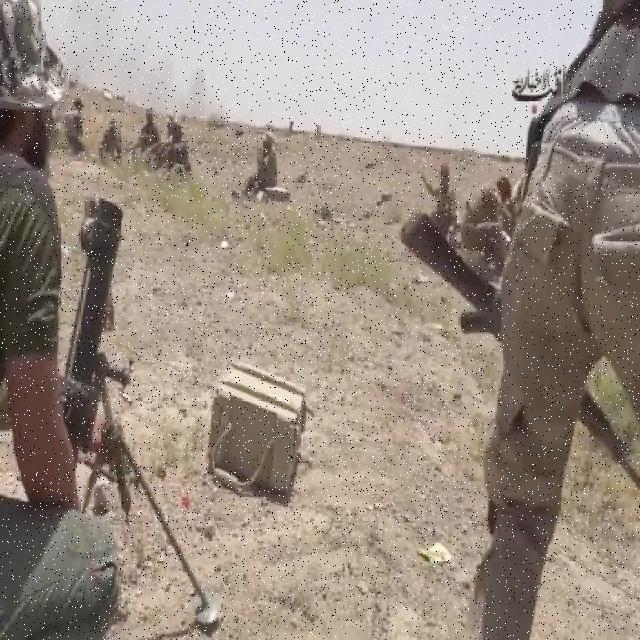Rifle: (397, 213, 639, 489)
